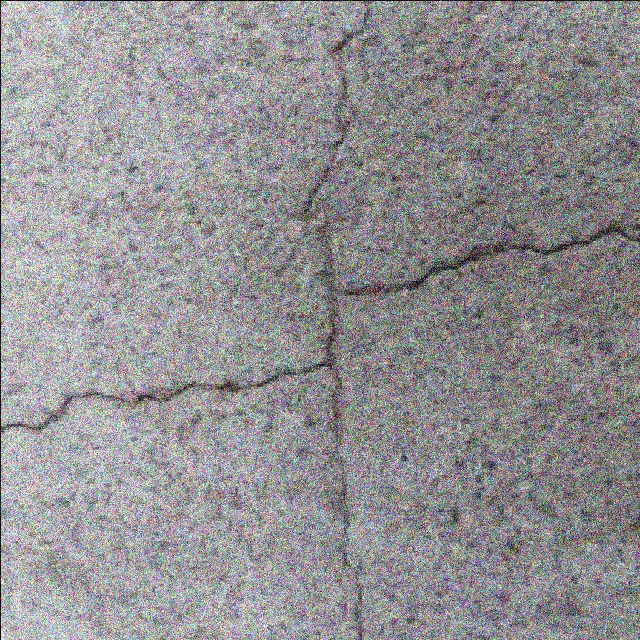SurfaceCrack: (254, 0, 414, 640), (312, 172, 640, 330), (2, 352, 370, 460)
